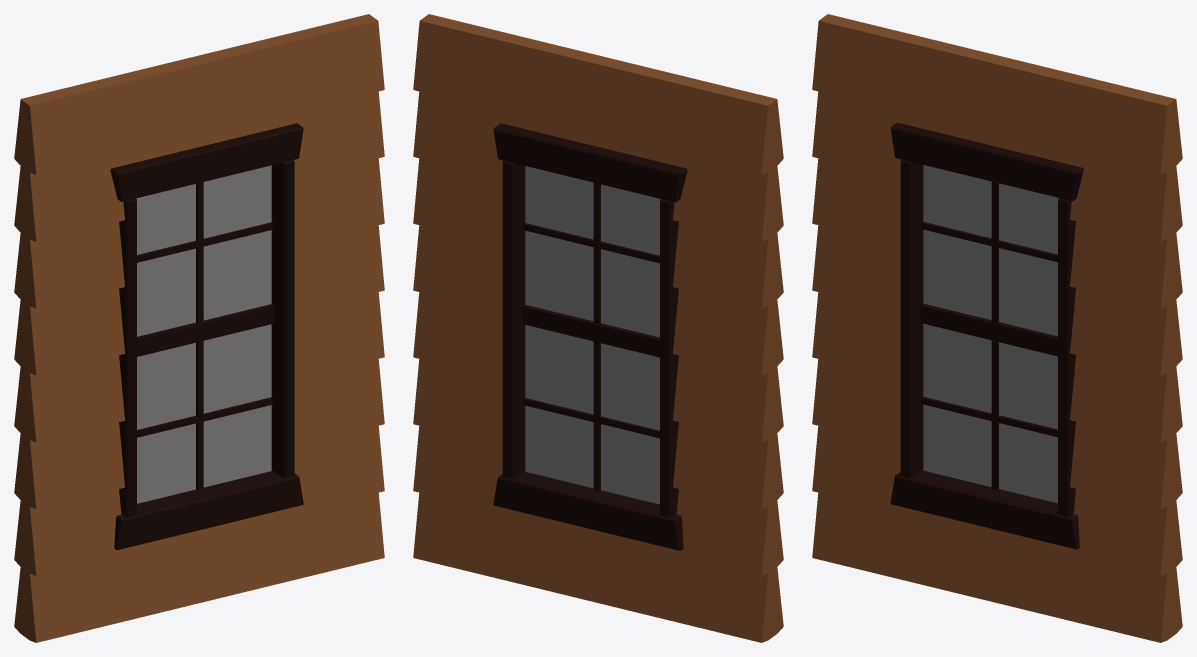
Rendered from ww_small_window_a.glb.
The picture shows the model from 3 angles, left to right: view 1: azimuth 30°, elevation 25°; view 2: azimuth 150°, elevation 25°; view 3: azimuth 330°, elevation 25°; orthographic projection.
Visible parts, largest first — view 1: Small_Window_A; view 2: Small_Window_A; view 3: Small_Window_A.
Boxes of the visible parts, left/top/right/bottom form: Small_Window_A: left=14, top=14, right=384, bottom=642; Small_Window_A: left=413, top=14, right=783, bottom=642; Small_Window_A: left=812, top=14, right=1182, bottom=642.
Size of the model in its own units: 2.4 by 3.52 by 0.3115.
